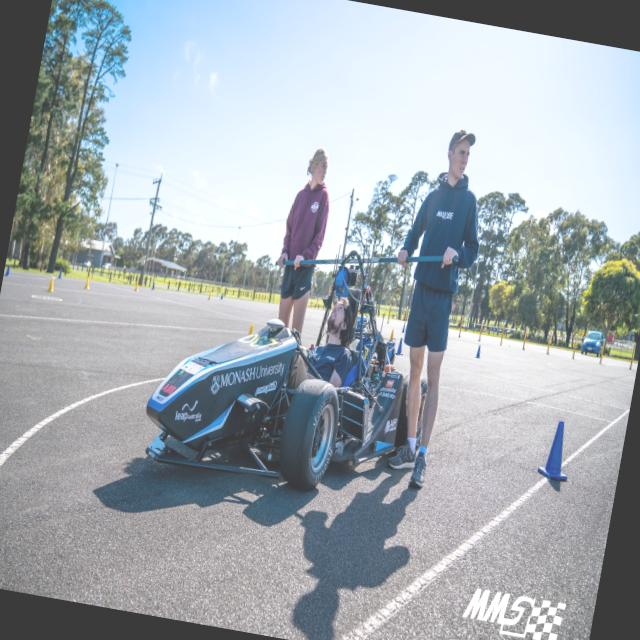blue_cone: (536, 418, 576, 482), (395, 337, 404, 355), (474, 344, 482, 358), (4, 264, 12, 276), (57, 268, 63, 279), (400, 324, 406, 333), (152, 281, 156, 290), (220, 292, 223, 299)
yellow_cone: (47, 277, 55, 293), (83, 276, 91, 290), (388, 328, 394, 341), (134, 280, 139, 292), (207, 292, 211, 300)
